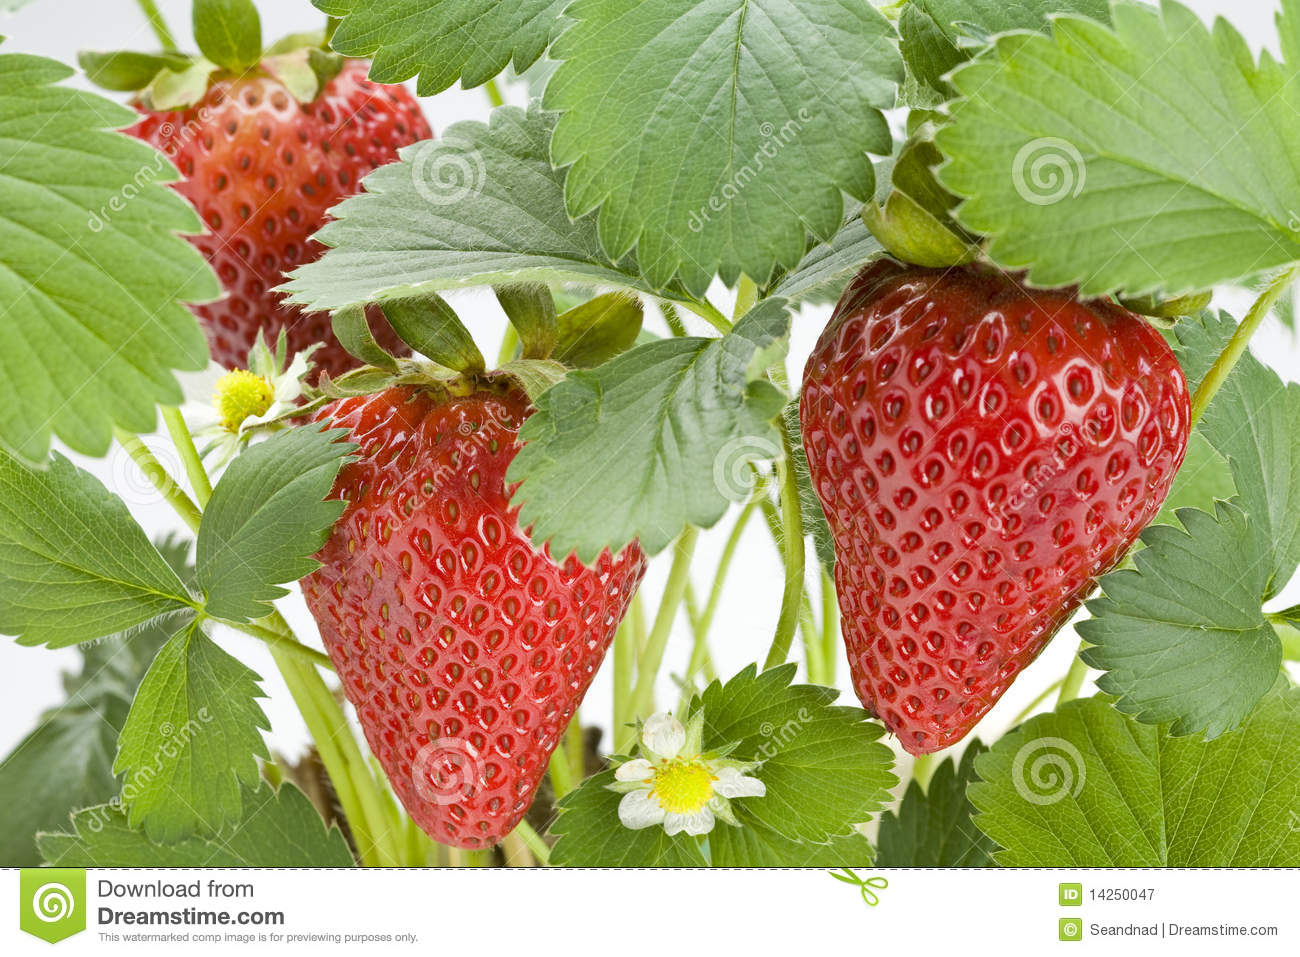ripe: (796, 240, 1199, 757), (289, 374, 675, 849), (105, 54, 485, 419)
unripe: (210, 361, 279, 440)
